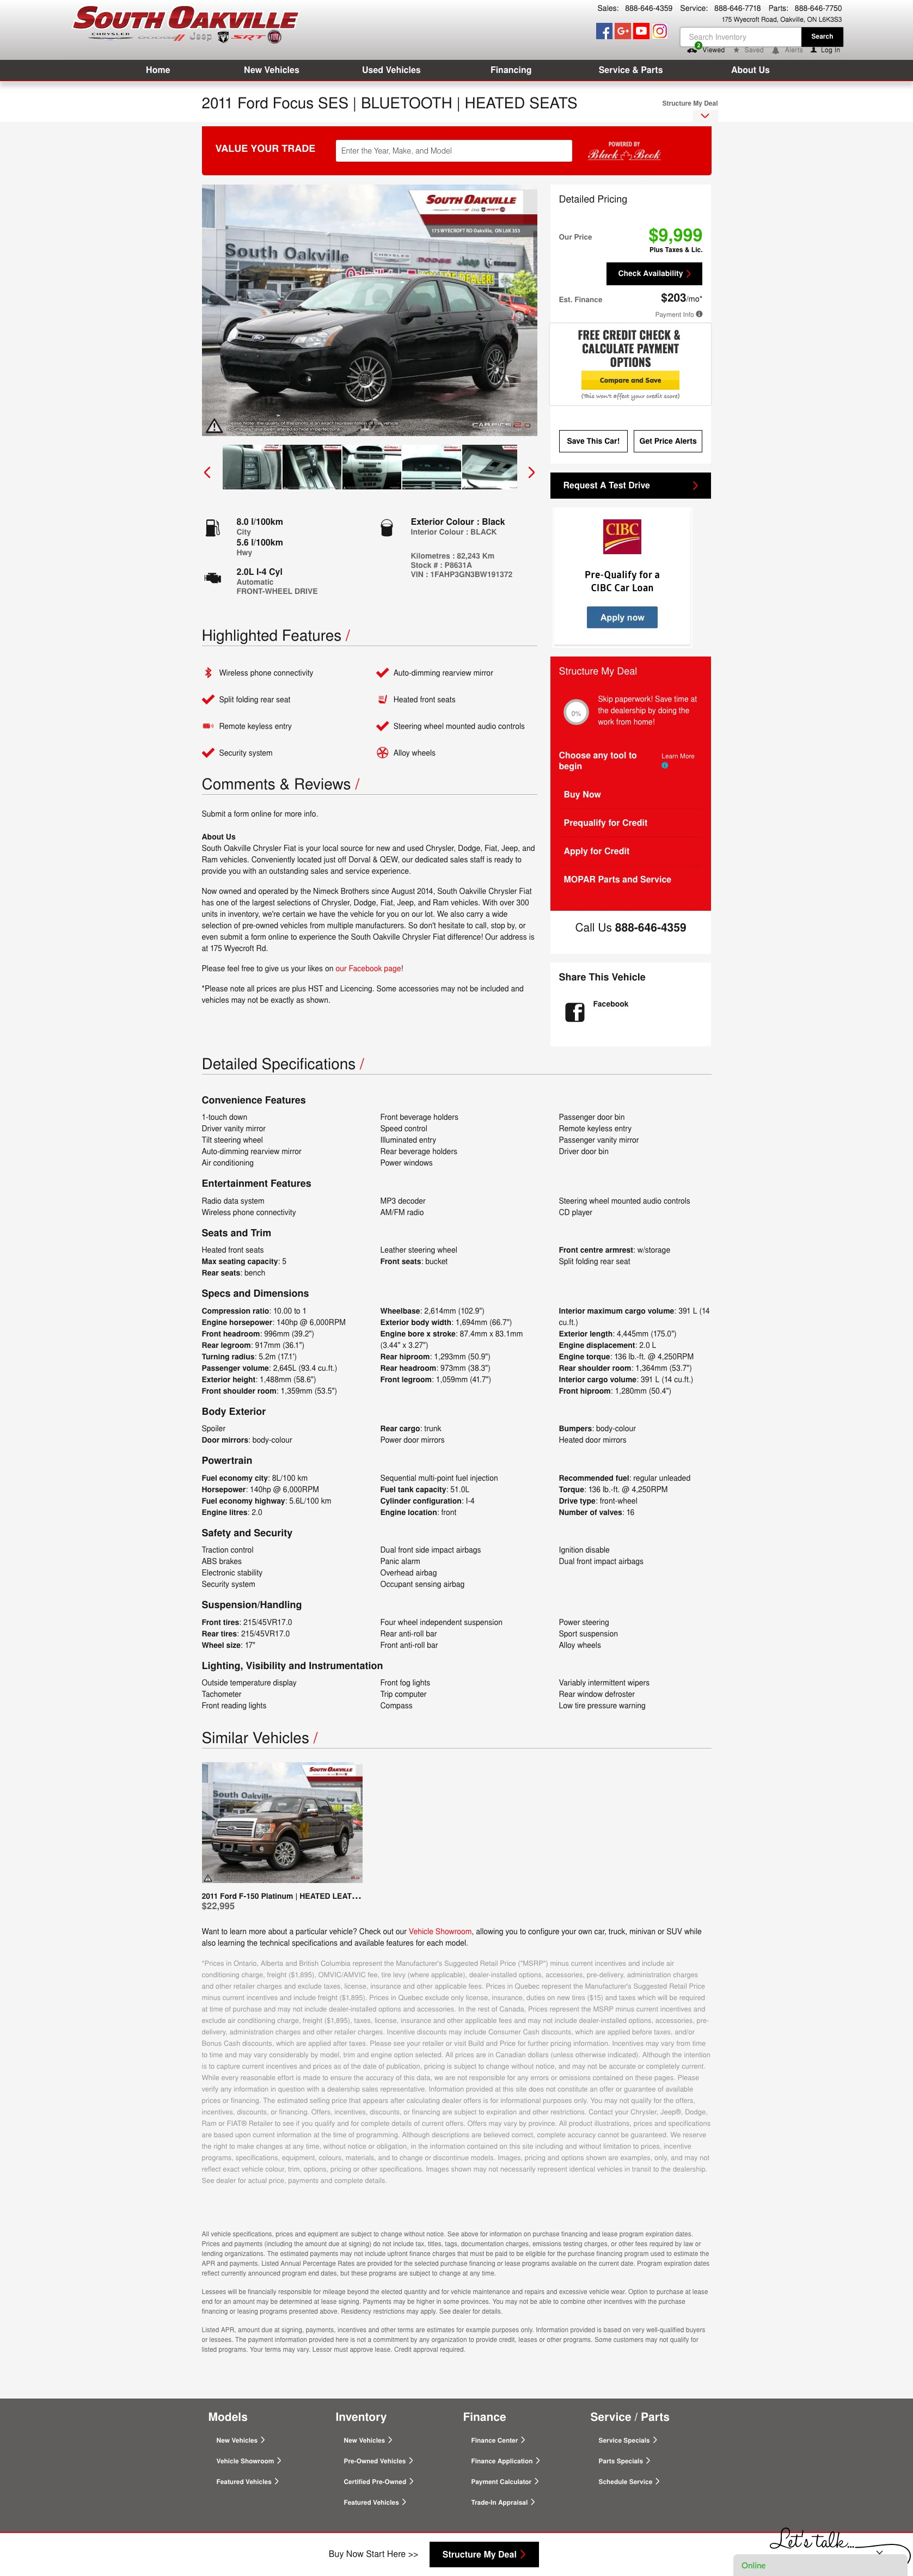car: (527, 467, 537, 480)
